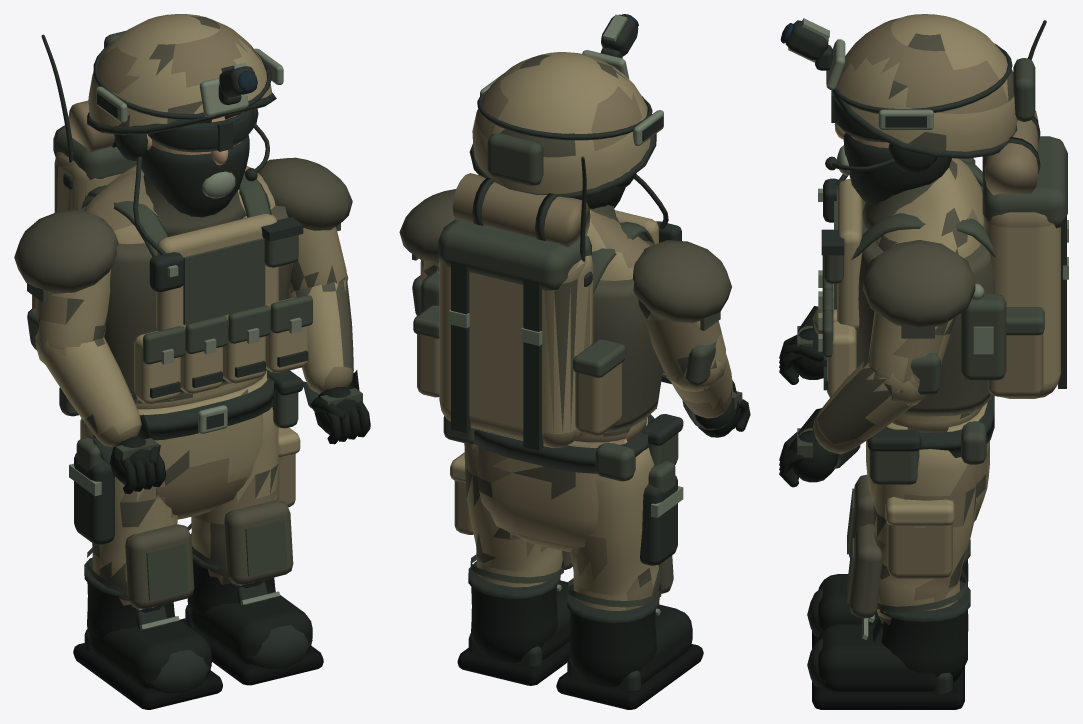
Rendered from soldier_enemy_tan.obj.
3 views of the same model, side by side, from view 1: azimuth 30°, elevation 25°; view 2: azimuth 150°, elevation 25°; view 3: azimuth 270°, elevation 25° (orthographic). The views are drawn at different scales.
Parts seen in each view (by area): view 1: soldier_enemy_tan; view 2: soldier_enemy_tan; view 3: soldier_enemy_tan.
Boxes of the visible parts, left/top/right/bottom form: soldier_enemy_tan: left=14, top=14, right=370, bottom=709; soldier_enemy_tan: left=399, top=14, right=750, bottom=709; soldier_enemy_tan: left=779, top=14, right=1068, bottom=709.
Size of the model in its own units: 38.48 by 71.96 by 29.24.
